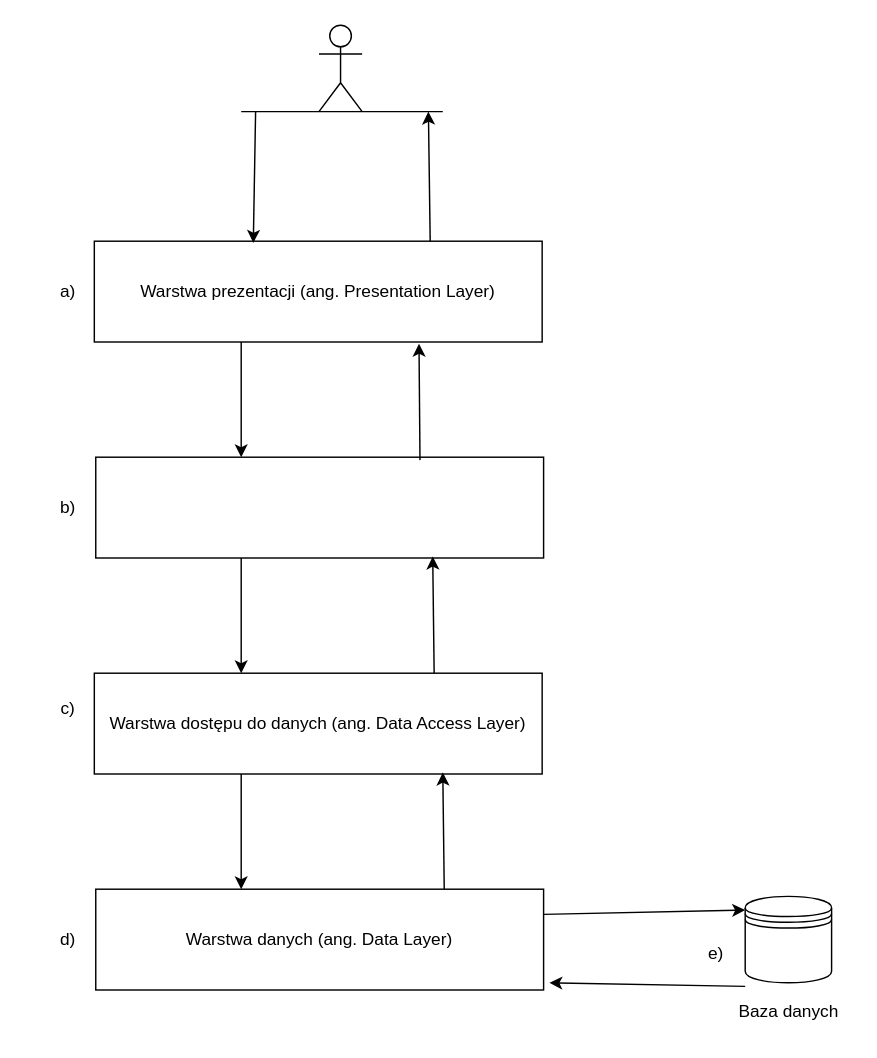
Some shapes in this 877 by 1058 pixel diagram are drawn without their labels. Each missing label, with the centre of its shape:
Actor: pixel 340 68
Warstwa logiki biznesowej (ang. Business Logic Layer): pixel 319 507
